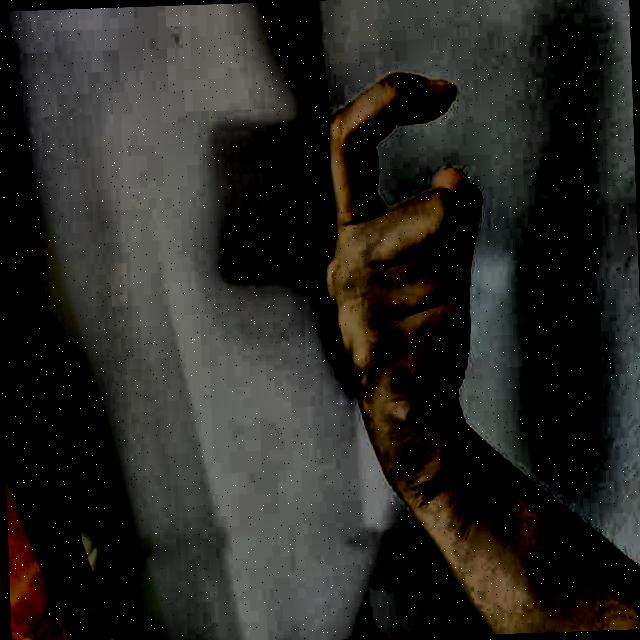E: (278, 25, 564, 522)
